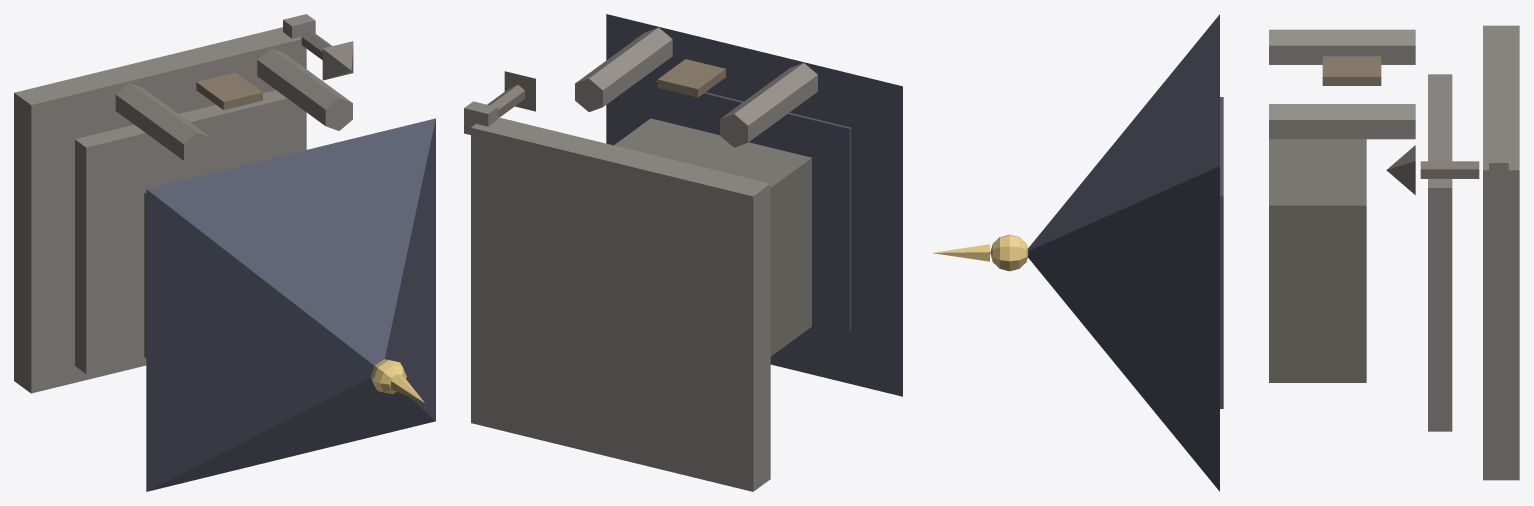
The model's file is mountain-temple.glb.
3 views of the same model, side by side, from view 1: azimuth 30°, elevation 25°; view 2: azimuth 150°, elevation 25°; view 3: azimuth 270°, elevation 25° (orthographic). The views are drawn at different scales.
Visible parts, largest first — view 1: Temple_SlateRoof, Temple_MidStone, Temple_DarkStone, Temple_Wood, Temple_Gold; view 2: Temple_MidStone, Temple_SlateRoof, Temple_DarkStone, Temple_Wood; view 3: Temple_SlateRoof, Temple_MidStone, Temple_DarkStone, Temple_Wood, Temple_Gold.
Part boxes in pixels (<box>): Temple_SlateRoof: <box>146,118,435,491</box>; Temple_MidStone: <box>14,14,352,393</box>; Temple_DarkStone: <box>144,31,353,357</box>; Temple_Wood: <box>196,72,262,109</box>; Temple_Gold: <box>370,359,424,402</box>; Temple_MidStone: <box>464,27,817,491</box>; Temple_SlateRoof: <box>606,14,902,396</box>; Temple_DarkStone: <box>487,71,811,356</box>; Temple_Wood: <box>657,59,725,97</box>; Temple_SlateRoof: <box>1028,14,1223,491</box>; Temple_MidStone: <box>1269,25,1519,480</box>; Temple_DarkStone: <box>1269,139,1479,382</box>; Temple_Wood: <box>1322,56,1381,85</box>; Temple_Gold: <box>933,234,1028,271</box>.
Size of the model in its own units: 0.7566 by 0.7877 by 1.2.
